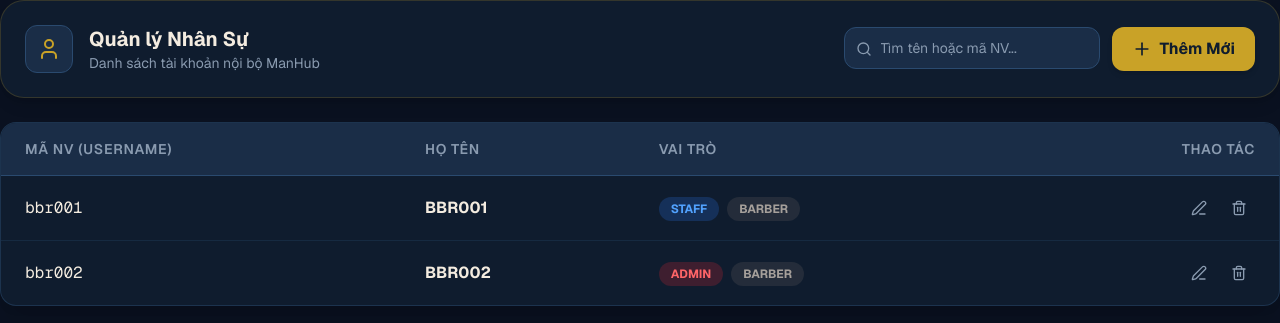
StaffManagement Component › filters users by search query
The image size is (1280, 323).
Expected: the text "bbr001" is shown, [1,176,401,240]
Expected: the text "bbr002" is shown, [1,240,401,305]
Type "BBR002" into the field with placeholder "Tìm tên hoặc mã NV...".
click(972, 48); type("BBR002")  # box [844,27,1100,69]
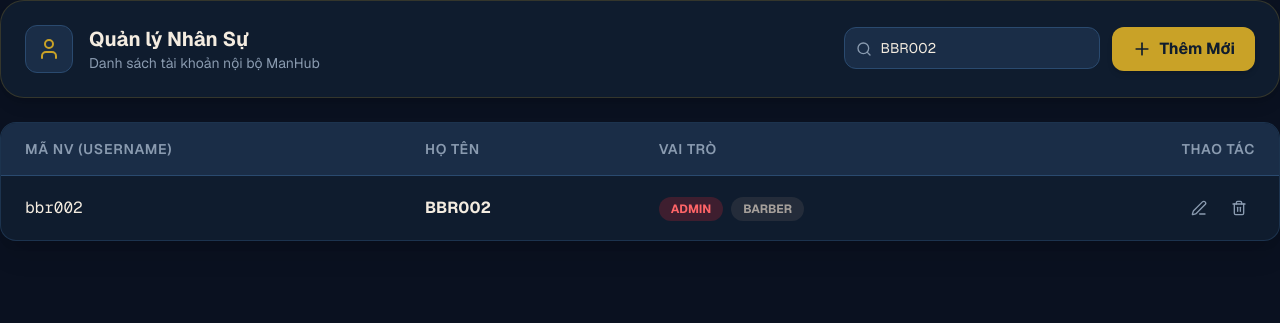
Expected: the text "bbr002" is shown, [1,176,401,240]
Now the text "bbr001" is gone
